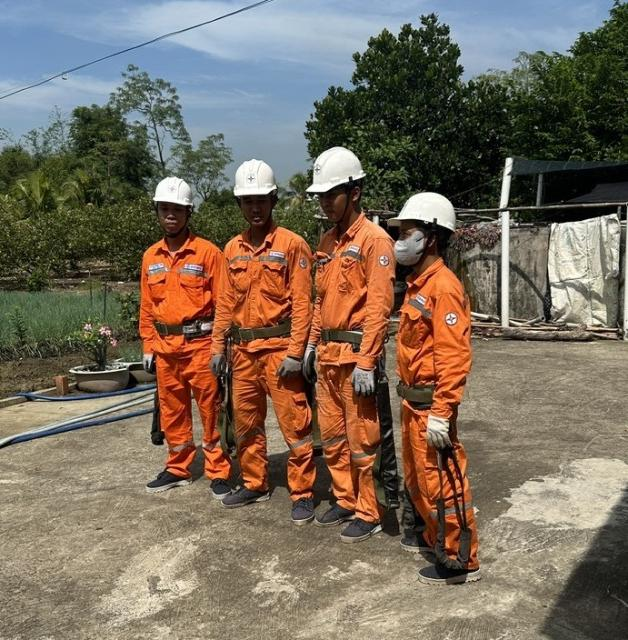gloves: (413, 410, 457, 451), (343, 359, 381, 396), (292, 348, 328, 386), (266, 355, 300, 385), (205, 350, 232, 379), (138, 348, 161, 379)
harness: (219, 318, 301, 346), (385, 379, 441, 414), (148, 315, 223, 340), (312, 322, 372, 350)
helmet: (389, 183, 474, 246), (297, 148, 369, 196), (144, 170, 202, 217), (223, 158, 280, 203)
shoes: (408, 554, 488, 589), (147, 459, 198, 501), (332, 505, 378, 544), (392, 529, 448, 559), (220, 478, 265, 513), (279, 492, 316, 528), (315, 495, 352, 527), (206, 476, 229, 502)
